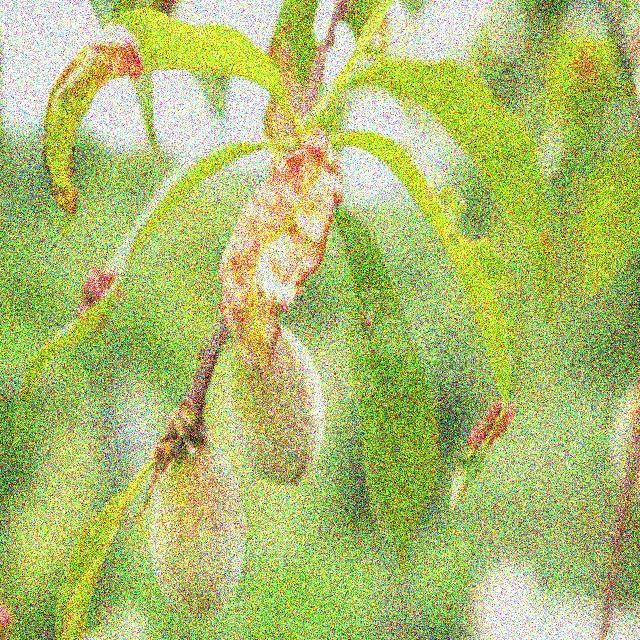leaf_curl: (202, 121, 364, 393), (16, 0, 178, 272)
